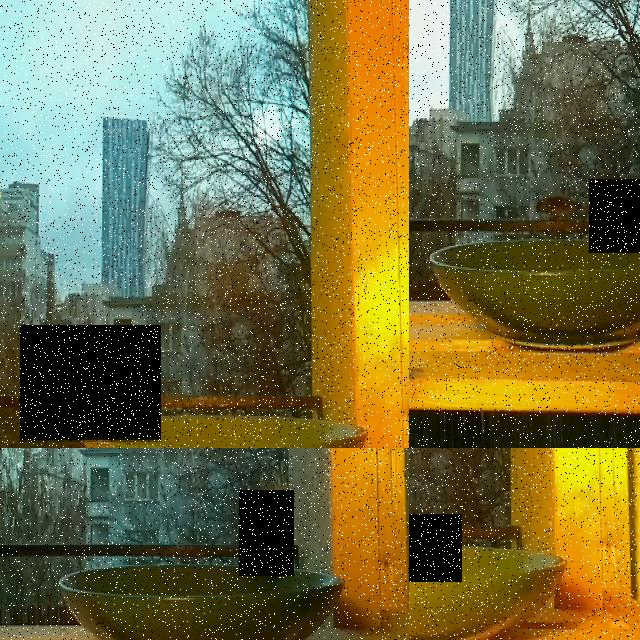Modraszka: (20, 326, 161, 442), (239, 490, 294, 576), (409, 514, 462, 582)
Wrobel: (589, 179, 640, 252)
